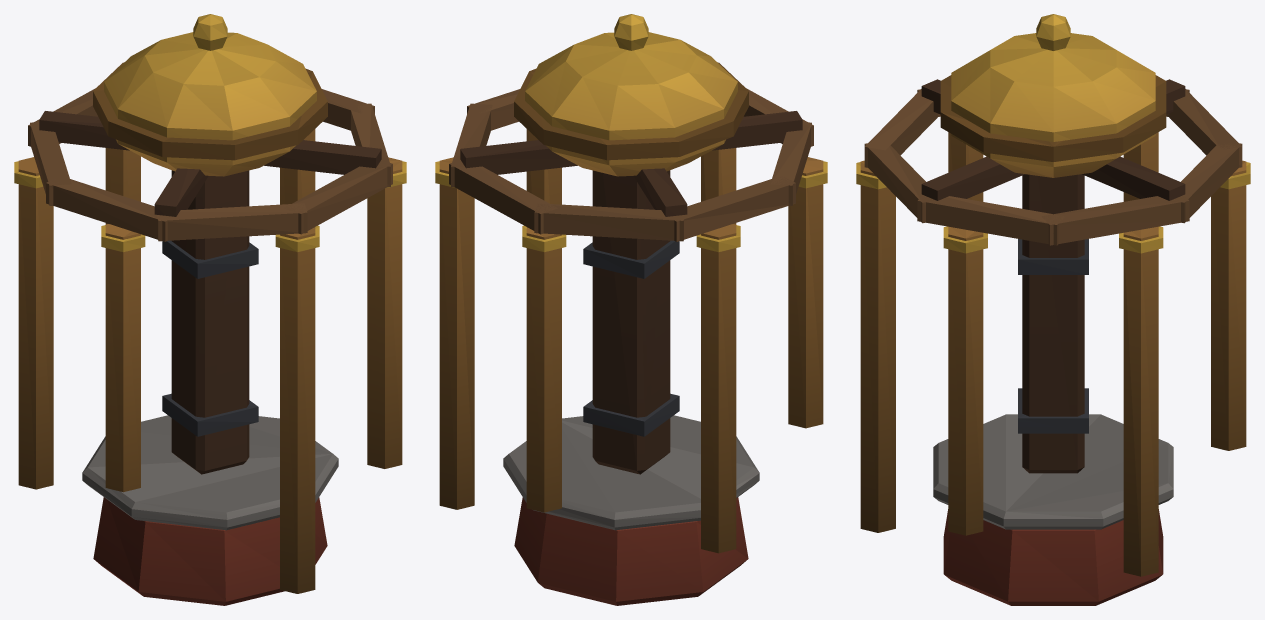
The model's file is deep_chime.glb.
The picture shows the model from 3 angles, left to right: view 1: azimuth 30°, elevation 25°; view 2: azimuth 150°, elevation 25°; view 3: azimuth 270°, elevation 25°; orthographic projection.
Visible parts, largest first — view 1: deep_chime; view 2: deep_chime; view 3: deep_chime.
Boxes of the visible parts, box(x1,y1,x2,y2) form: deep_chime: box(14, 14, 406, 605); deep_chime: box(435, 14, 827, 605); deep_chime: box(856, 14, 1250, 605).
Size of the model in its own units: 0.6684 by 1.07 by 0.6979.
